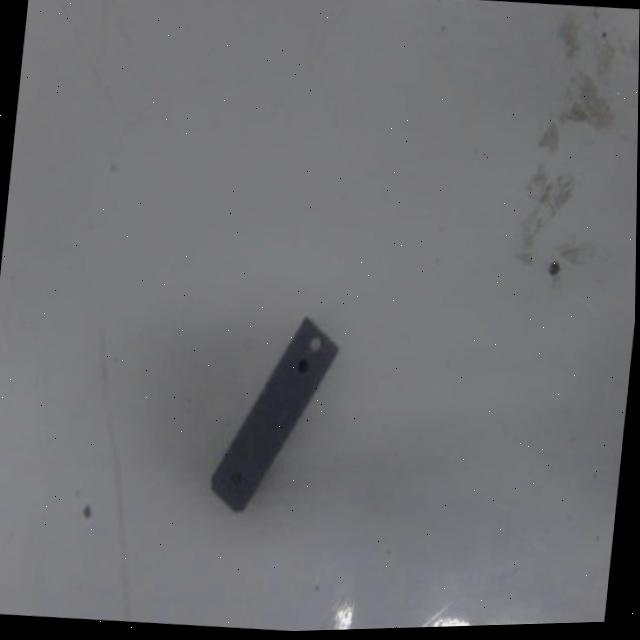grey: (204, 310, 343, 520)
head: (226, 465, 242, 487)
